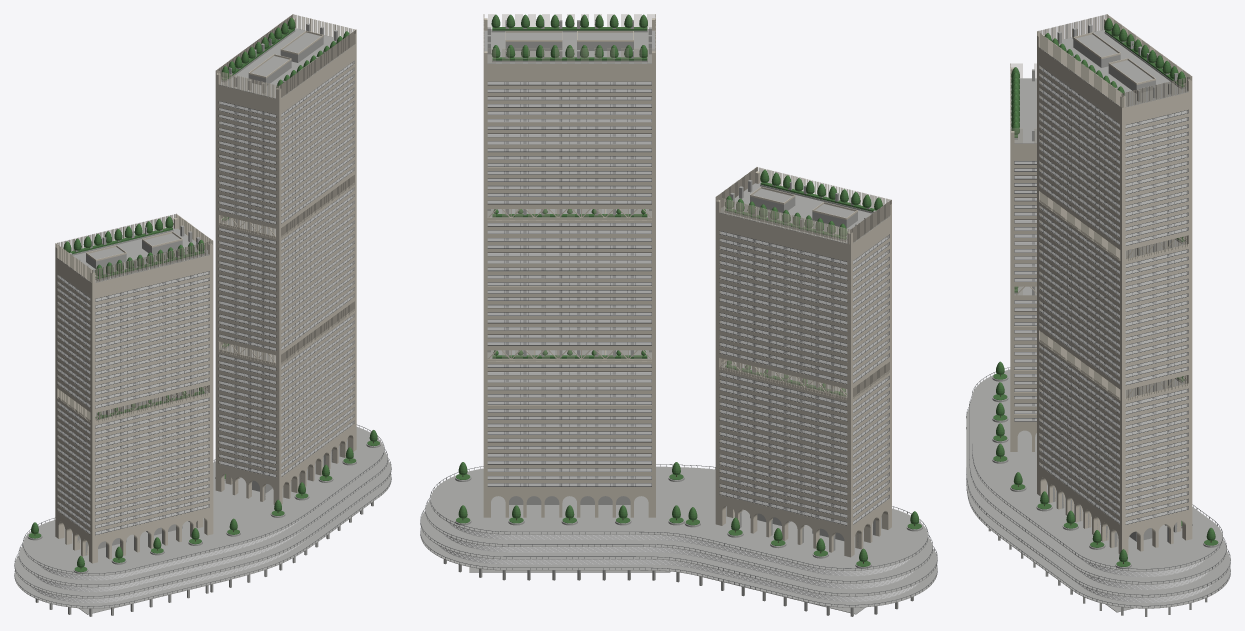
Rendered from highrise_house.glb.
The picture shows the model from 3 angles, left to right: view 1: azimuth 30°, elevation 25°; view 2: azimuth 150°, elevation 25°; view 3: azimuth 270°, elevation 25°; orthographic projection. The views are drawn at different scales.
Visible parts, largest first — view 1: Web_Spandrel, Web_Concrete, Web_Glass_Web, Web_LouvreMetal, Structure.001, Structure, Web_Shadowbox, Web_Foliage, Podium_Diamond_Grid; view 2: Web_Spandrel, Web_Concrete, Web_Glass_Web, Web_LouvreMetal, Structure.001, Web_Shadowbox, Structure, Web_Foliage, Podium_Diamond_Grid; view 3: Web_Spandrel, Web_Concrete, Web_Glass_Web, Web_LouvreMetal, Structure.001, Web_Shadowbox, Web_Foliage, Structure, Podium_Diamond_Grid.
Boxes of the visible parts, <box> form: Web_Spandrel: <box>55,14,356,562</box>; Web_Concrete: <box>14,63,391,616</box>; Web_Glass_Web: <box>31,61,354,603</box>; Web_LouvreMetal: <box>14,61,391,607</box>; Structure.001: <box>215,18,356,502</box>; Structure: <box>55,218,226,614</box>; Web_Shadowbox: <box>57,66,354,534</box>; Web_Foliage: <box>28,17,379,572</box>; Podium_Diamond_Grid: <box>32,515,310,603</box>; Web_Spandrel: <box>483,14,891,556</box>; Web_Concrete: <box>420,82,937,616</box>; Web_Glass_Web: <box>438,82,919,601</box>; Web_LouvreMetal: <box>420,81,937,606</box>; Structure.001: <box>469,18,670,572</box>; Web_Shadowbox: <box>487,84,889,525</box>; Structure: <box>704,171,891,614</box>; Web_Foliage: <box>456,14,921,566</box>; Podium_Diamond_Grid: <box>439,523,918,601</box>; Web_Spandrel: <box>1010,14,1192,554</box>; Web_Concrete: <box>966,69,1230,616</box>; Web_Glass_Web: <box>1014,66,1212,602</box>; Web_LouvreMetal: <box>966,65,1230,607</box>; Structure.001: <box>1037,18,1192,612</box>; Web_Shadowbox: <box>1014,68,1188,524</box>; Web_Foliage: <box>993,18,1218,566</box>; Structure: <box>1010,67,1036,451</box>; Podium_Diamond_Grid: <box>1077,559,1211,602</box>.
Size of the model in its own units: 251 by 279 by 131.
